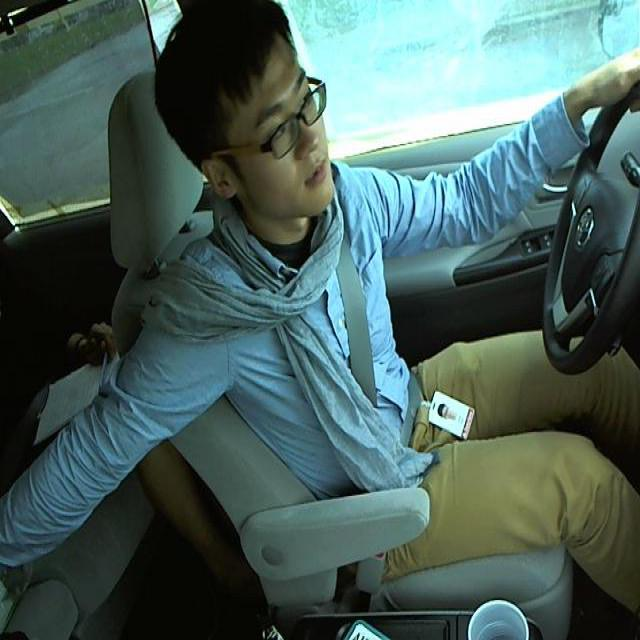seatbelt: (322, 262, 431, 442)
